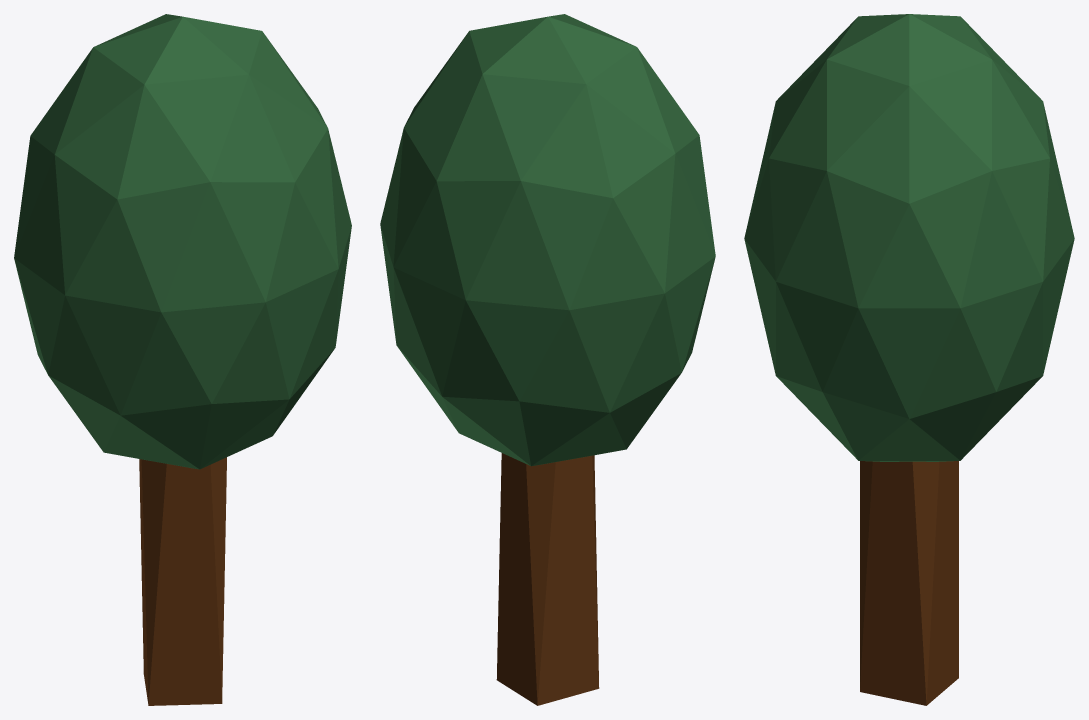
The model's file is broad-tree-1m.glb.
3 renders of one model, left to right at view 1: azimuth 30°, elevation 25°; view 2: azimuth 150°, elevation 25°; view 3: azimuth 270°, elevation 25°, orthographic.
Parts seen in each view (by area): view 1: Icosphere, Cylinder; view 2: Icosphere, Cylinder; view 3: Icosphere, Cylinder.
Boxes of the visible parts, left/top/right/bottom form: Icosphere: left=14, top=14, right=351, bottom=469; Cylinder: left=139, top=457, right=226, bottom=705; Icosphere: left=380, top=14, right=715, bottom=466; Cylinder: left=496, top=453, right=599, bottom=705; Icosphere: left=744, top=14, right=1074, bottom=461; Cylinder: left=860, top=461, right=958, bottom=705.
Bounding box in the file's own units: 0.5 × 1.12 × 0.5.
